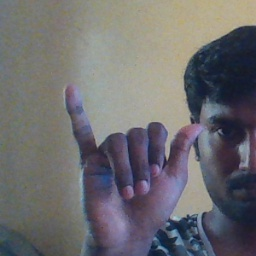J: (58, 83, 203, 244)
